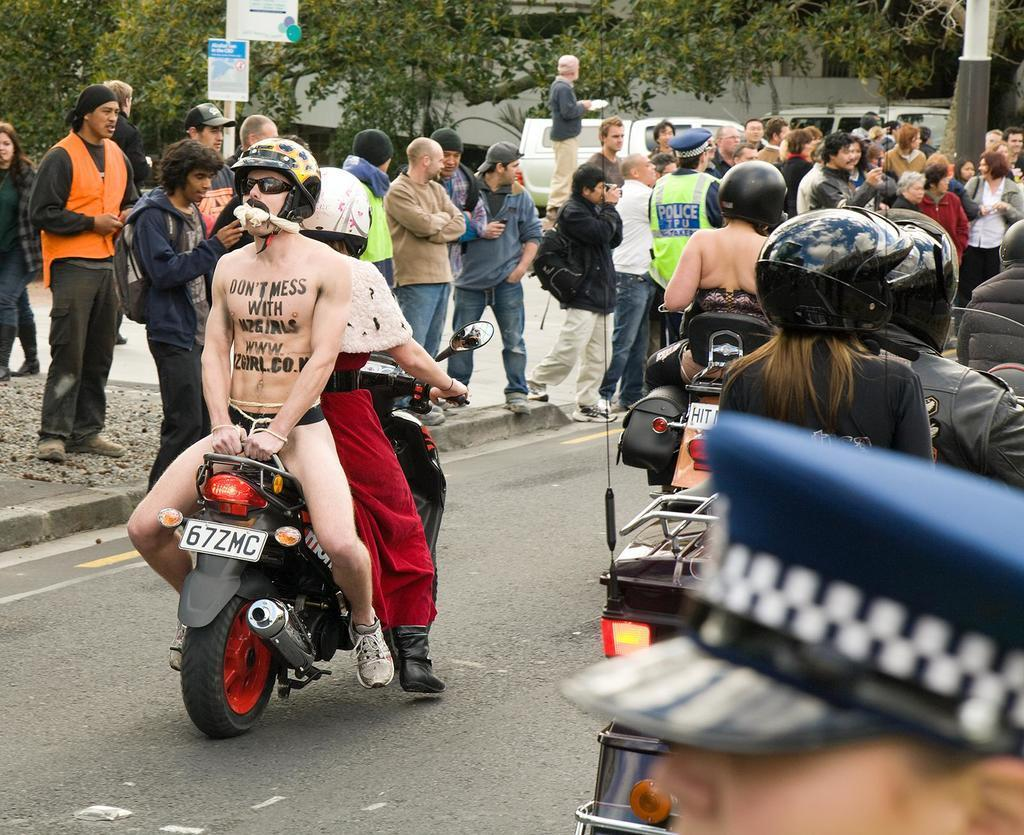helmet: (752, 203, 916, 334), (839, 207, 961, 357), (229, 136, 322, 240), (282, 165, 372, 261), (716, 158, 789, 228), (998, 217, 1024, 269)
nohelmet: (156, 138, 225, 205), (64, 82, 121, 140), (184, 101, 238, 155), (476, 140, 526, 186), (668, 126, 713, 173), (426, 126, 465, 178), (352, 126, 394, 174), (406, 135, 446, 183), (570, 162, 608, 205), (822, 131, 855, 173), (621, 152, 659, 187), (977, 148, 1009, 183), (894, 170, 926, 205), (597, 116, 626, 154), (921, 162, 951, 198), (716, 124, 742, 157), (896, 125, 923, 153), (653, 120, 677, 150), (557, 53, 581, 83), (1002, 126, 1024, 155), (743, 118, 765, 143)
